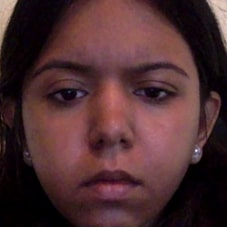awake: (32, 51, 191, 208)
